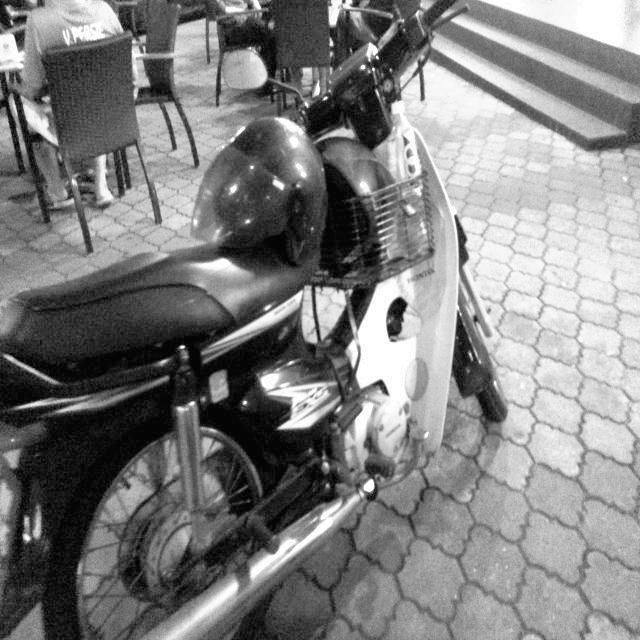Motorcycle: (1, 0, 540, 638)
